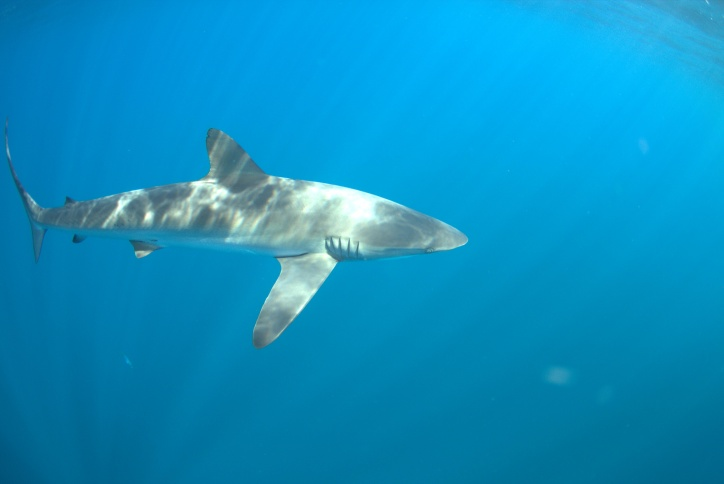Sedoso: (1, 107, 484, 355)
